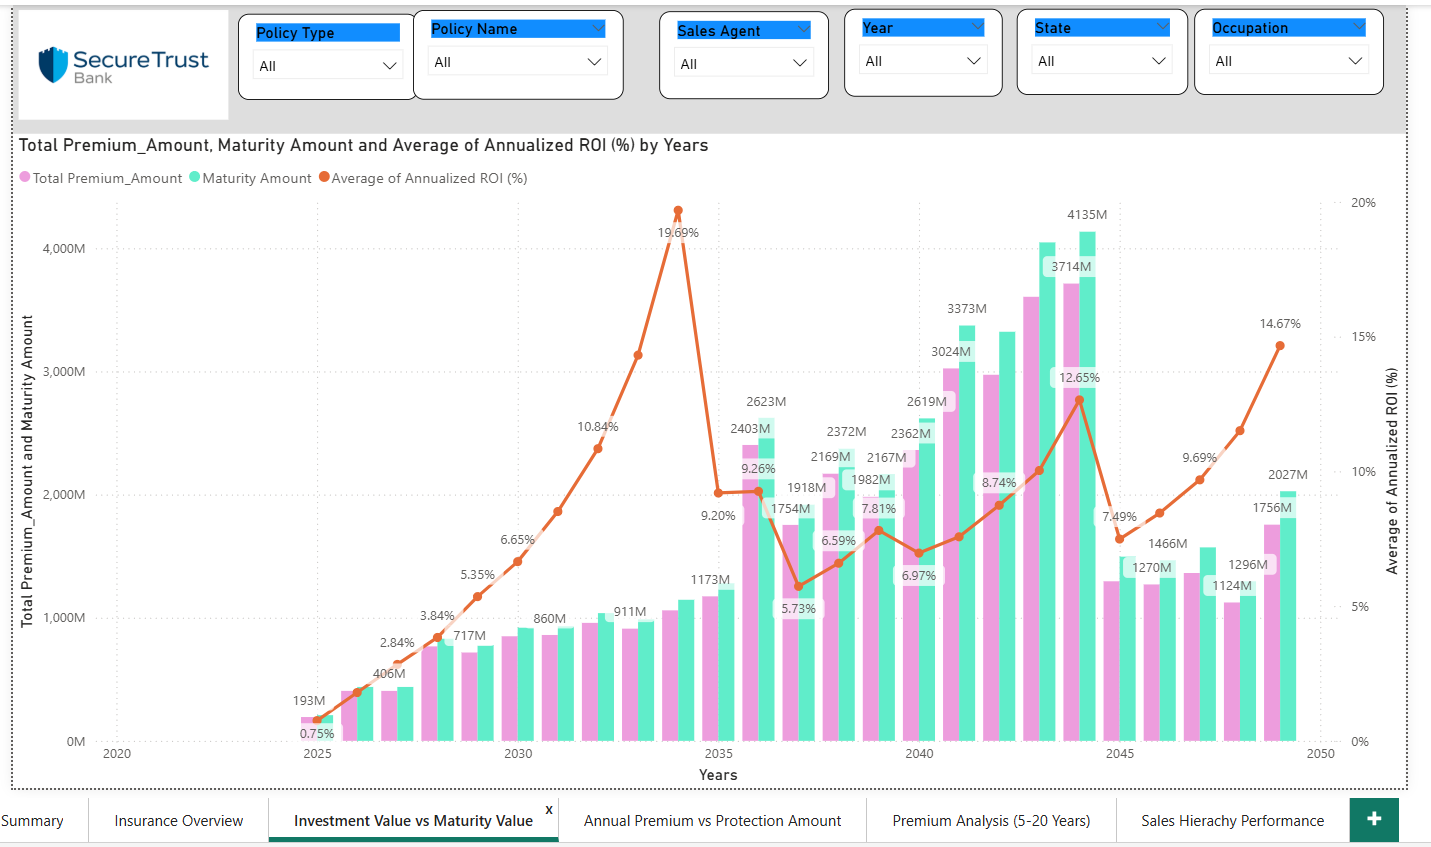

The dashboard page shown, as its layout file describes it:
{"tool":"powerbi","page":{"name":"Investment Value vs Maturity Value","canvas":[1280,720],"ordinal":2},"visuals":[{"type":"slicer","fields":{"Values":["DM Policy_Type.Policy Type"]},"box":[207.2,8.4,165.9,79.4],"z":0},{"type":"slicer","fields":{"Values":["DM Policy_Protection_Plan.Policy Name"]},"box":[367.5,4.8,193.3,82.2],"z":1000},{"type":"slicer","fields":{"Values":["DM Insurance_Agent_Table.Sales Agent"]},"box":[594.2,5.8,155.8,80.8],"z":2000},{"type":"slicer","fields":{"Values":["FCT Insurance_Policy_Table.Year"]},"box":[763.8,2.9,145.7,80.8],"z":3000},{"type":"slicer","fields":{"Values":["DM Customer_Detail_Table.State"]},"box":[921.9,2.9,157.3,79.4],"z":4000},{"type":"slicer","fields":{"Values":["DM Customer_Detail_Table.Occupation"]},"box":[1085.8,3.1,174.6,79.4],"z":5000},{"type":"lineClusteredColumnComboChart","fields":{"Y":["Measure Table.Total Premium_Amount","Sum(FCT Insurance_Policy_Table.Maturity Amount)"],"Y2":["Avg(FCT Insurance_Policy_Table.Annualized ROI (%))"],"Category":["FCT Insurance_Policy_Table.Start Date","FCT Insurance_Policy_Table.Date Hierarchy.Years","FCT Insurance_Policy_Table.Date Hierarchy.Quarters","FCT Insurance_Policy_Table.Date Hierarchy.Months","FCT Insurance_Policy_Table.Date Hierarchy.Days"]},"box":[0,118.3,1279.7,601.6],"z":6000},{"type":"image","box":[1.4,4.3,200.5,101],"z":7000}]}

Visuals, with their boxes on the page's 1280x720 design canvas (x1, y1, x2, y2). These are canvas units, not pixel positions in the 1431x847 screenshot, which may show the page scaled, cropped or inside an application window:
slicer - DM Policy_Type.Policy Type: bbox=(207, 8, 373, 88)
slicer - DM Policy_Protection_Plan.Policy Name: bbox=(368, 5, 561, 87)
slicer - DM Insurance_Agent_Table.Sales Agent: bbox=(594, 6, 750, 87)
slicer - FCT Insurance_Policy_Table.Year: bbox=(764, 3, 910, 84)
slicer - DM Customer_Detail_Table.State: bbox=(922, 3, 1079, 82)
slicer - DM Customer_Detail_Table.Occupation: bbox=(1086, 3, 1260, 82)
lineClusteredColumnComboChart - Measure Table.Total Premium_Amount x Sum(FCT Insurance_Policy_Table.Maturity Amount): bbox=(0, 118, 1280, 720)
image: bbox=(1, 4, 202, 105)
